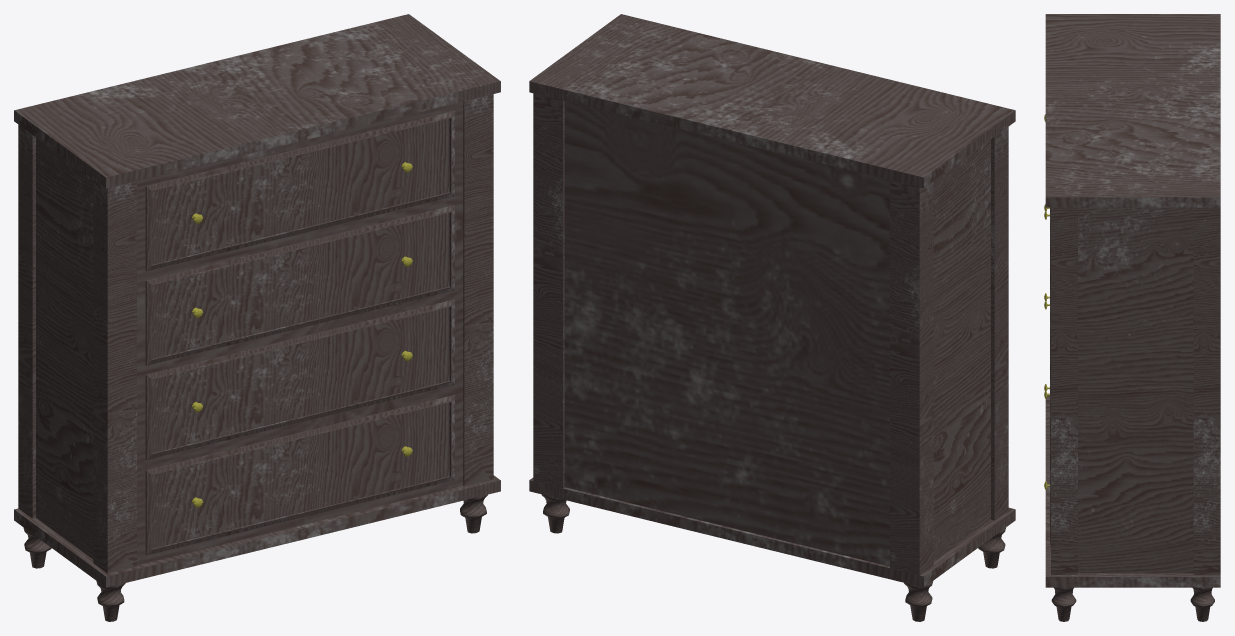
The model's file is tansu.fbx.
3 renders of one model, left to right at view 1: azimuth 30°, elevation 25°; view 2: azimuth 150°, elevation 25°; view 3: azimuth 270°, elevation 25°, orthographic. The views are drawn at different scales.
Parts seen in each view (by area): view 1: book:tansu:polySurface14, book:tansu:polySurface17, book:tansu:polySurface1, book:tansu:polySurface15, book:tansu:polySurface16, book:tansu:polySurface10, book:polySurface11; view 2: book:tansu:polySurface14, book:polySurface10, book:polySurface12; view 3: book:tansu:polySurface14, book:polySurface11, book:polySurface12.
Boxes of the visible parts, x1,y1,x2,y2 form: book:tansu:polySurface14: [14, 14, 500, 587]; book:tansu:polySurface17: [145, 395, 454, 555]; book:tansu:polySurface1: [145, 111, 454, 271]; book:tansu:polySurface15: [145, 205, 454, 365]; book:tansu:polySurface16: [145, 299, 454, 459]; book:tansu:polySurface10: [96, 581, 125, 621]; book:polySurface11: [460, 494, 487, 533]; book:tansu:polySurface14: [529, 14, 1015, 587]; book:polySurface10: [904, 581, 932, 621]; book:polySurface12: [541, 494, 569, 533]; book:tansu:polySurface14: [1045, 14, 1220, 587]; book:polySurface11: [1051, 587, 1076, 621]; book:polySurface12: [1190, 587, 1214, 621].
Size of the model in its own units: 9.5 by 10.4 by 3.86.
1 material, 1 textured.
